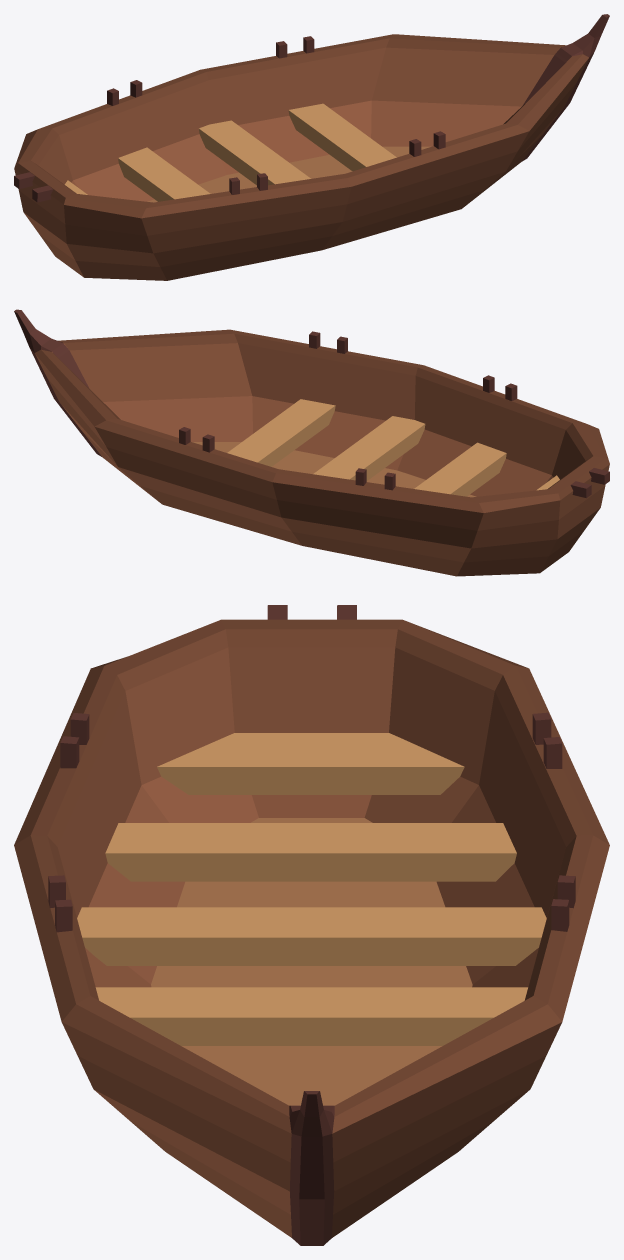
Rendered from boat.fbx.
The picture shows the model from 3 angles, top to bottom: view 1: azimuth 30°, elevation 25°; view 2: azimuth 150°, elevation 25°; view 3: azimuth 270°, elevation 25°; orthographic projection. The views are drawn at different scales.
Parts seen in each view (by area): view 1: boat; view 2: boat; view 3: boat.
Part boxes in pixels (bbox=[...]): boat: bbox=[14, 14, 609, 280]; boat: bbox=[14, 309, 609, 576]; boat: bbox=[14, 605, 609, 1245].
Bounding box in the file's own units: 422 × 83.57 × 196.
